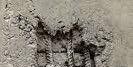Exposed reinforcement: (66, 30, 75, 67), (44, 34, 53, 67), (36, 47, 67, 54), (81, 47, 91, 67), (36, 29, 49, 35)
Spalling: (2, 1, 114, 67)
